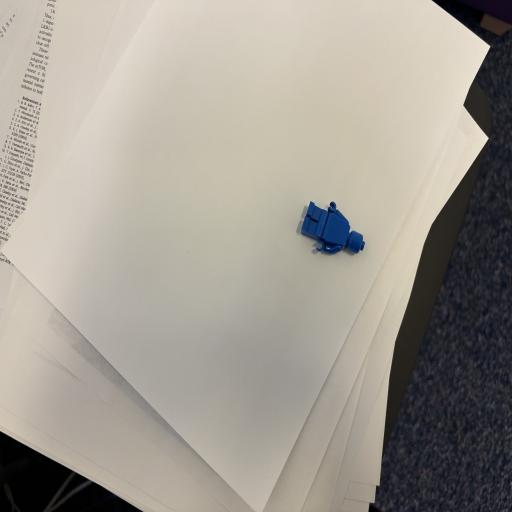Blue-Lego-Minifig: (301, 202, 365, 254)
